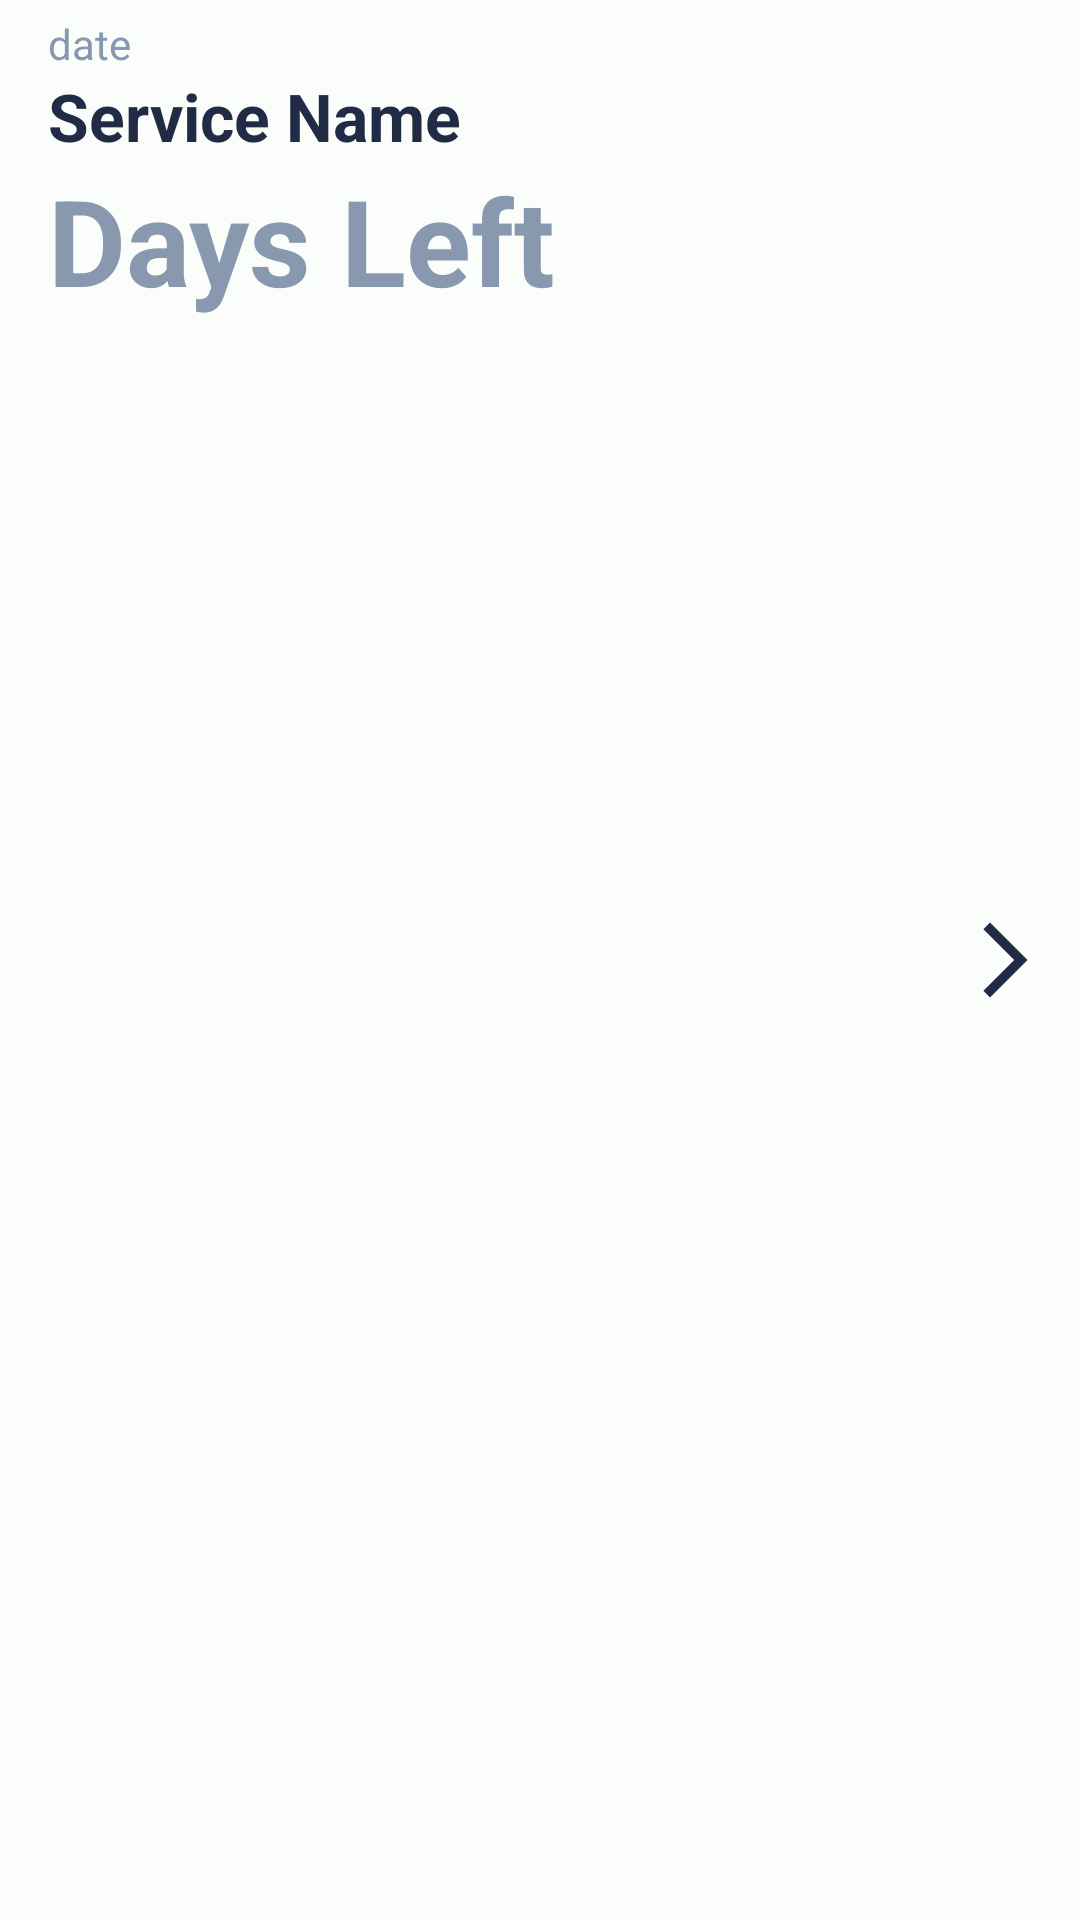

Locate icon controls on the screen. Image size 1080 × 1920, boxes as (x1, y1, x2, y2).
arrow forward: (983, 922, 1028, 998)
